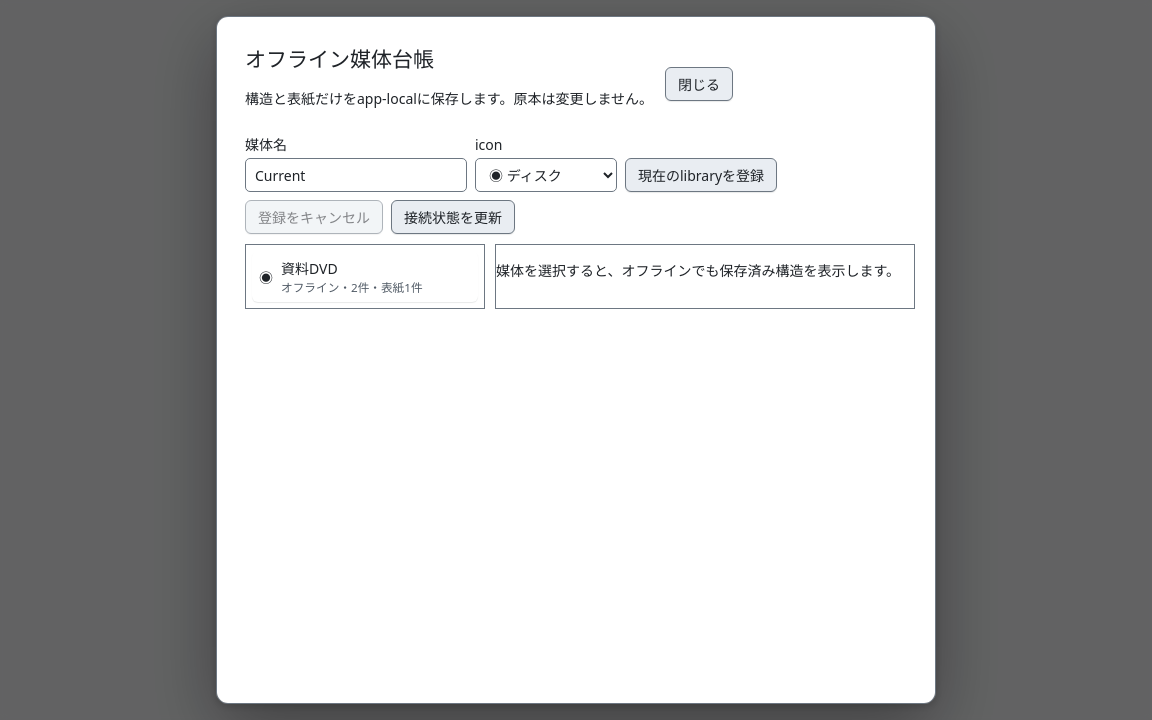
Test: MediaCatalogDialog › REQ-LEY-P5-001 registers only through Rust IPC and changes a built-in icon
Expected: the text "資料DVD オフライン・2件・表紙1件" is shown, [281,259,423,295]
Replace the text in the field labelled "媒体名" with "保管ディスク" at (356, 175), box [245,158,467,192]
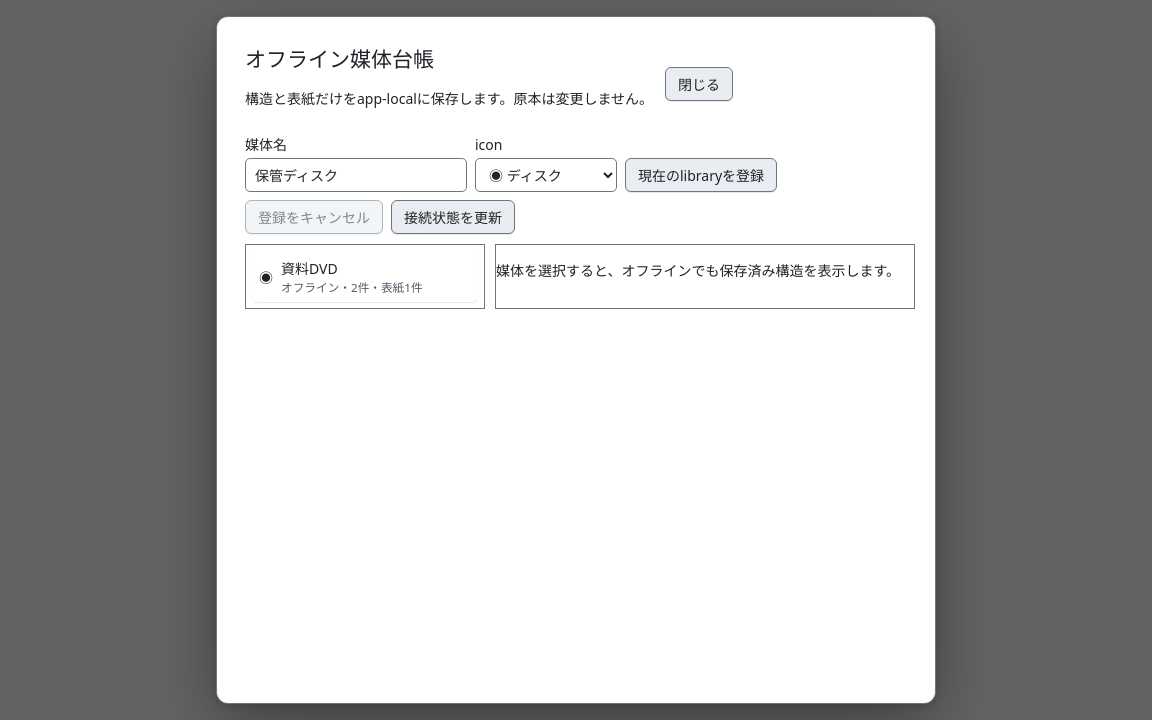
Select "▤ 保管" in the dropdown named "媒体icon" at (546, 175), box [475,158,617,192]
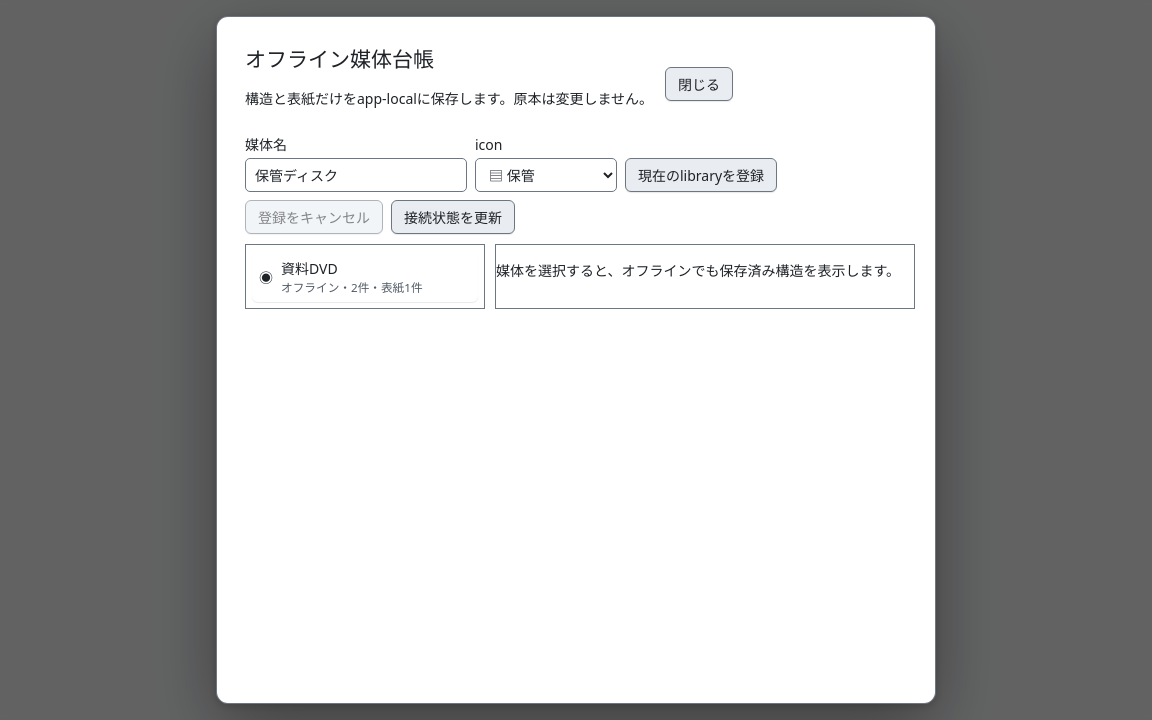
Click the button "現在のlibraryを登録" at (701, 175), box [625,158,777,192]
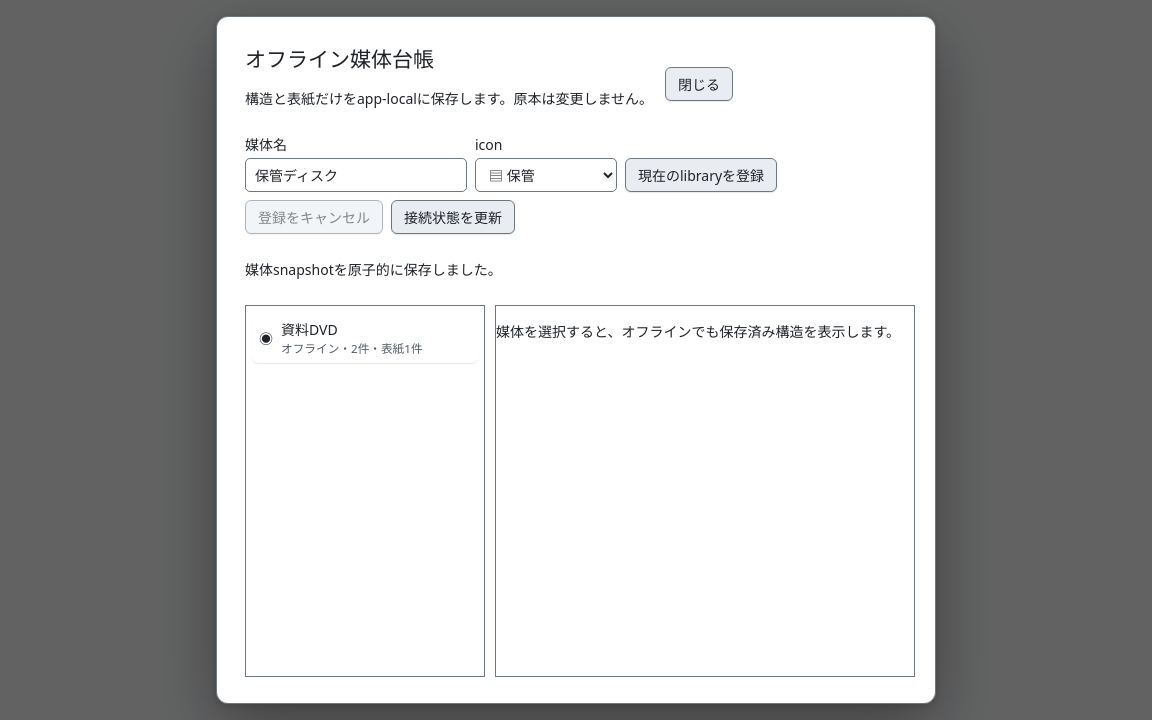
Now the text "媒体snapshotを原子的に保存しました。" is shown, box [245,260,502,279]
